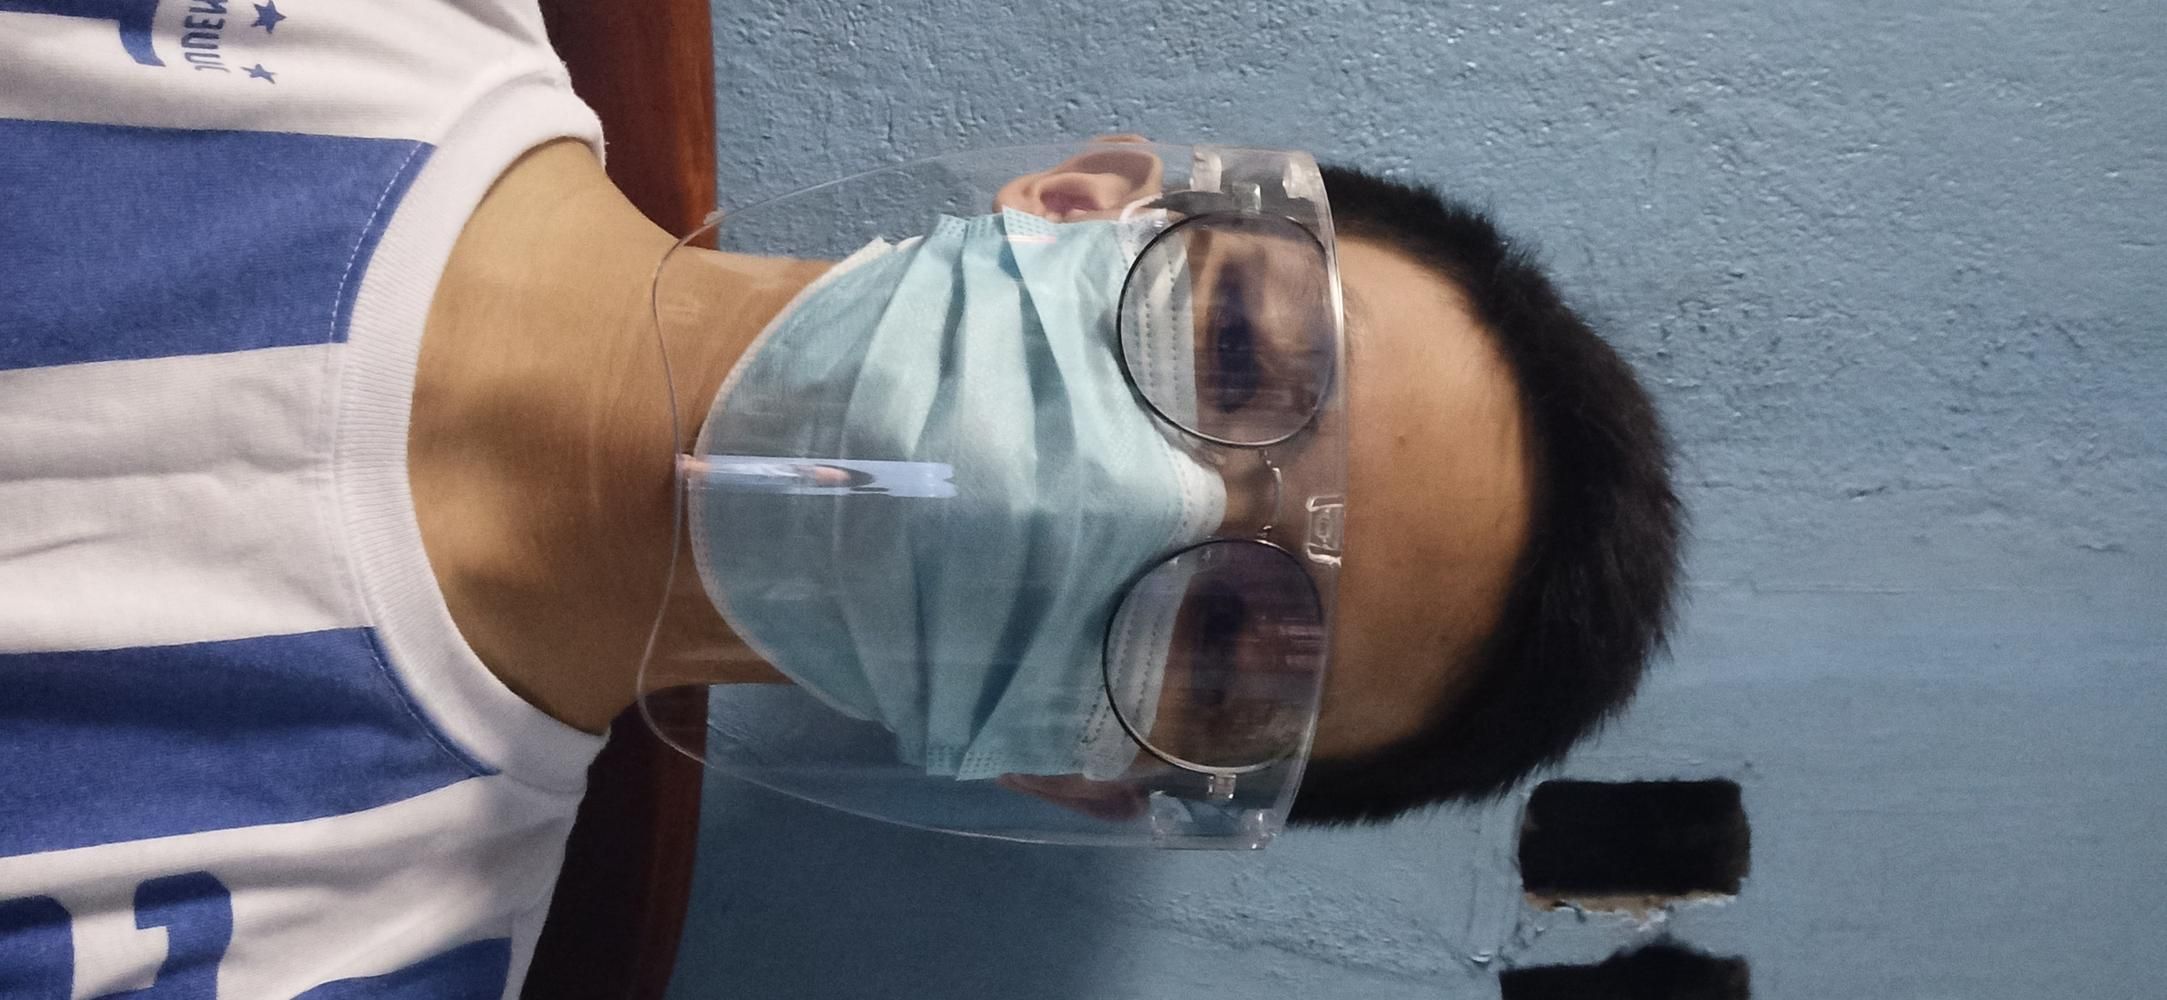Face Mask: (699, 220, 1158, 775)
Face Shield: (654, 146, 1309, 843)
Undefined Object: (1145, 188, 1312, 785)
